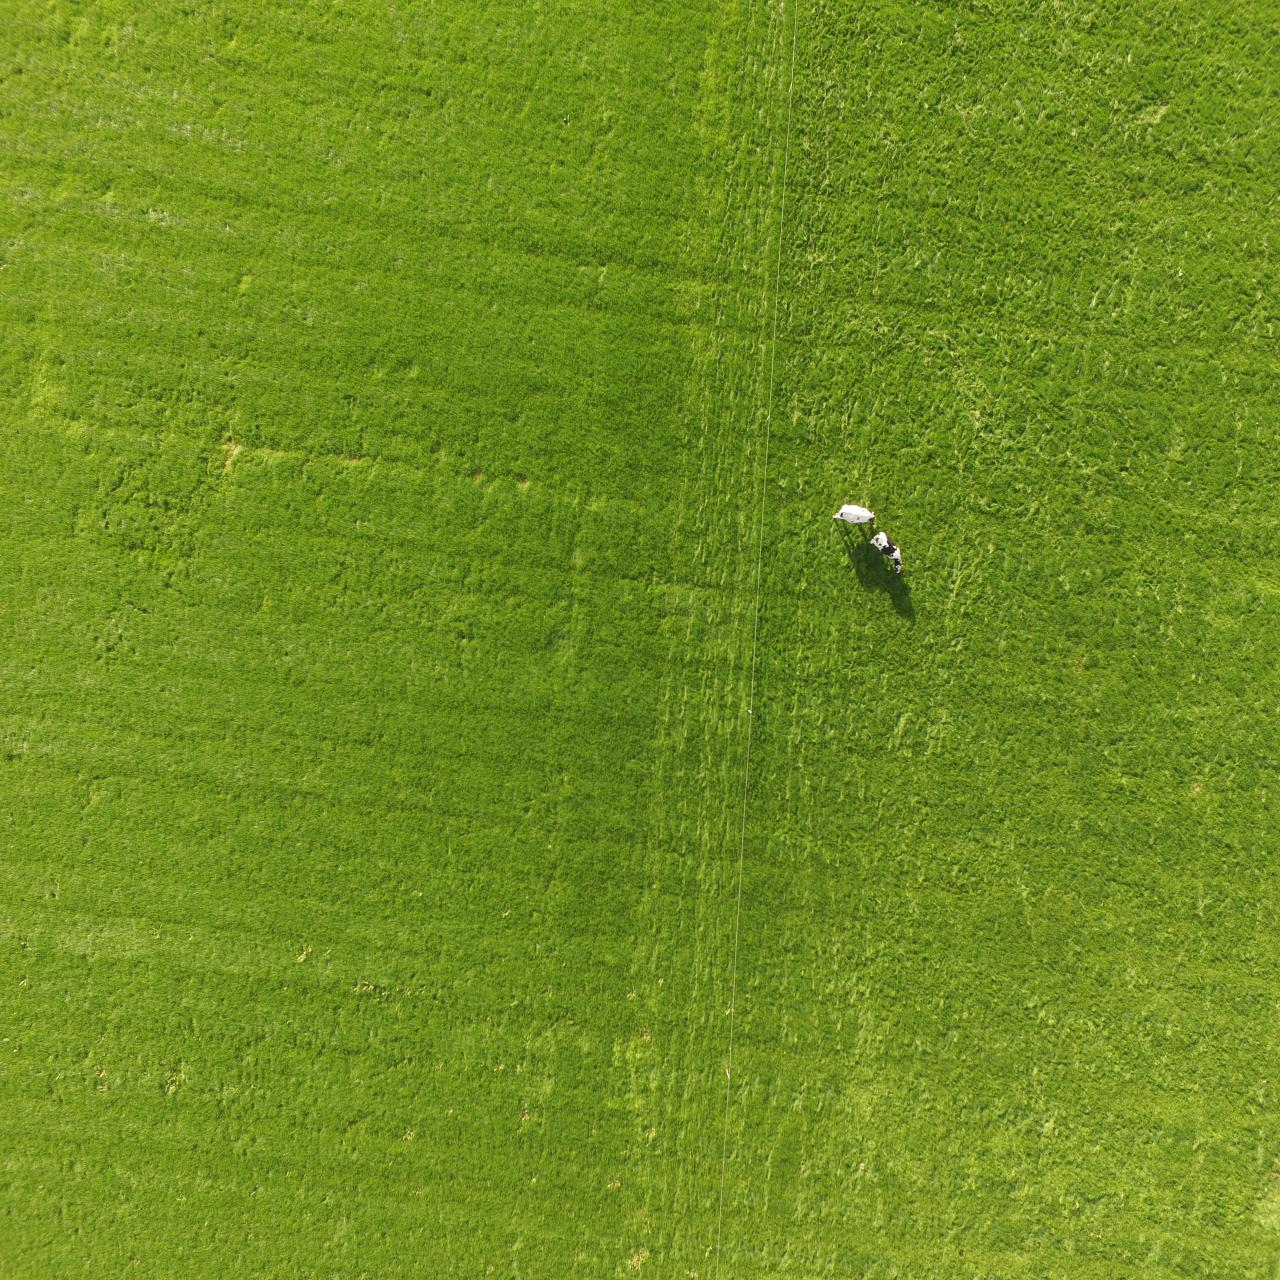cow: (869, 530, 903, 573), (831, 503, 876, 525)
